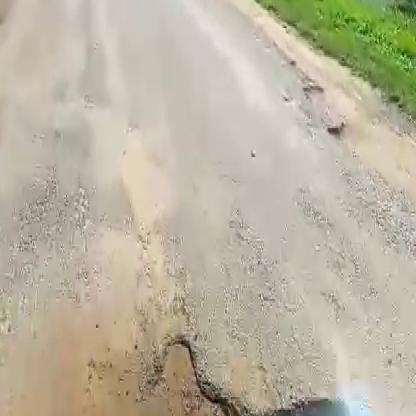pothole: (44, 338, 271, 416)
